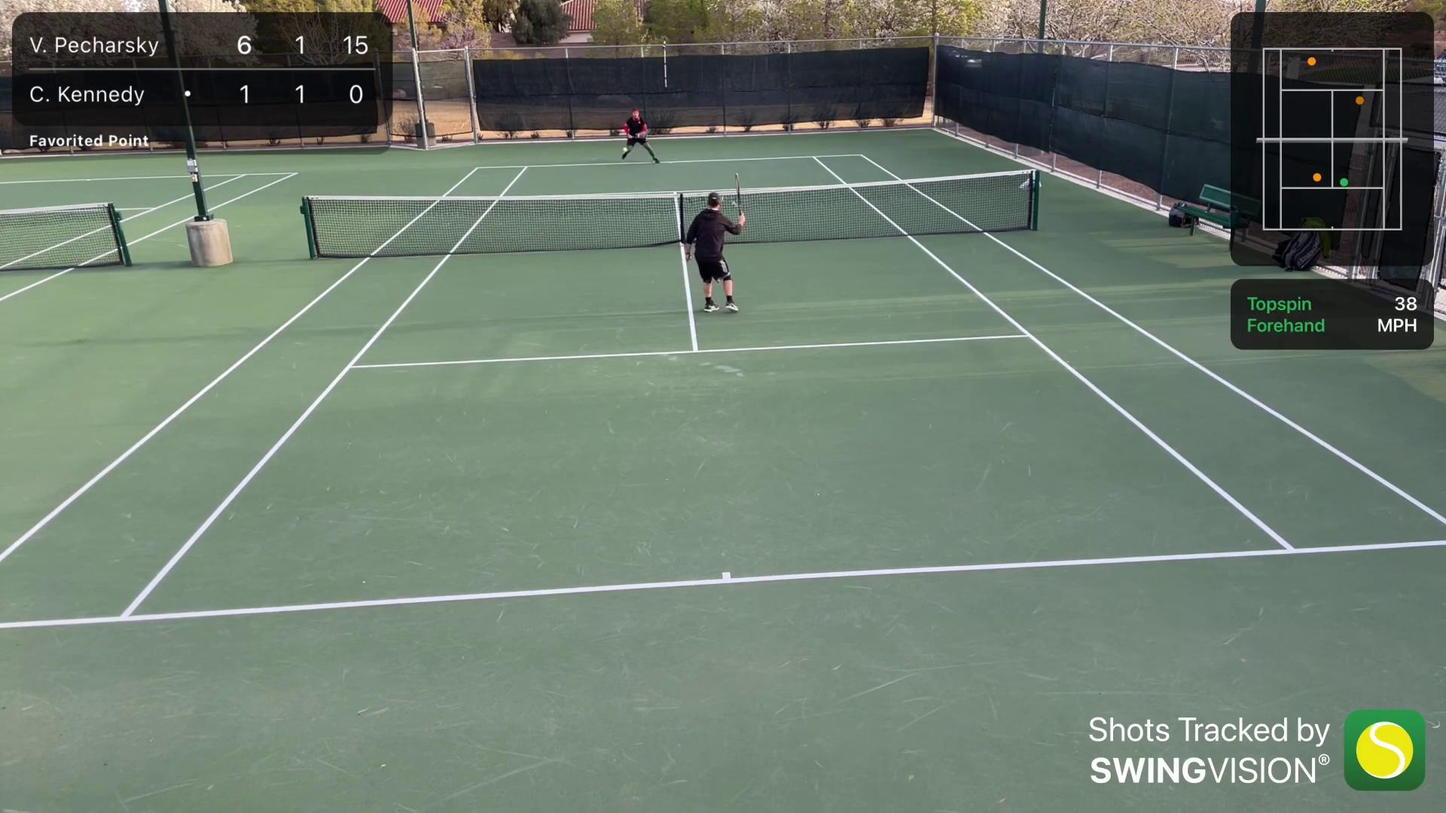ball: (621, 146, 631, 152), (974, 61, 976, 62)
